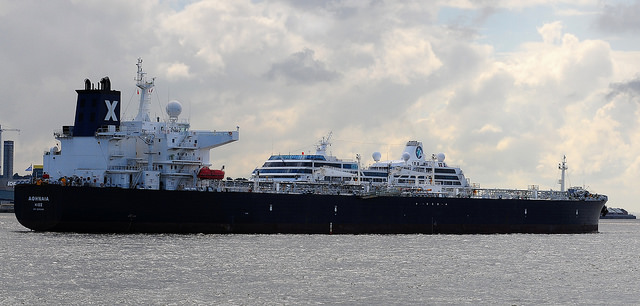tanker: (14, 62, 612, 234)
